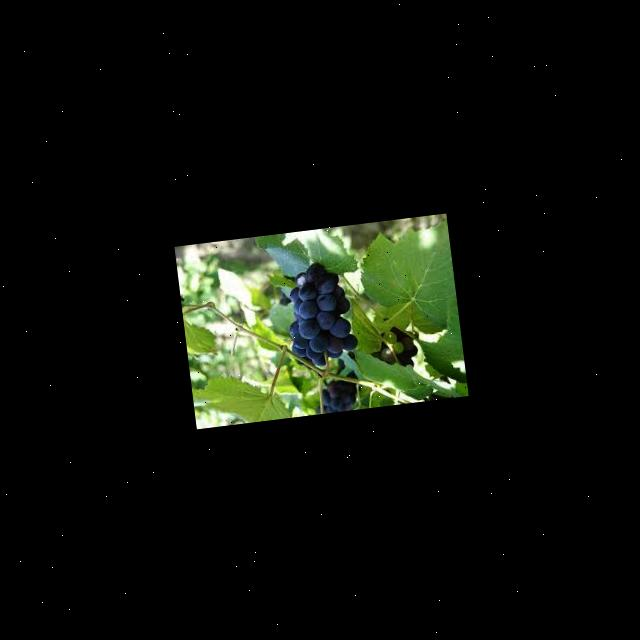grape: (280, 258, 359, 368), (376, 324, 420, 370)
